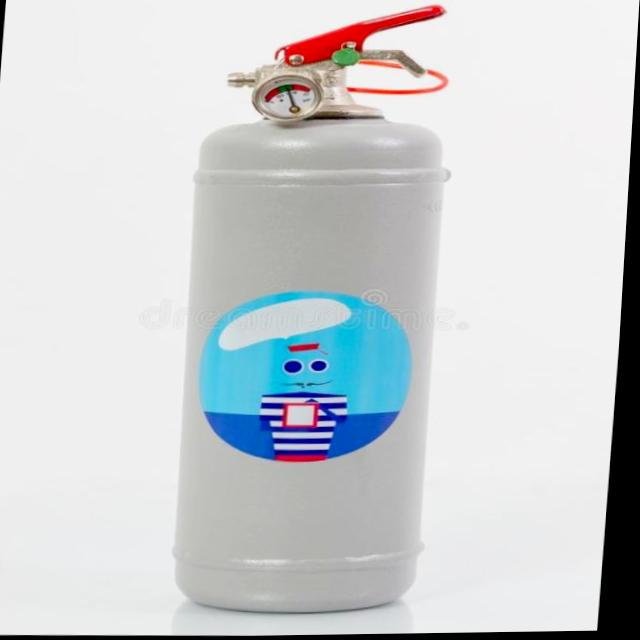FireExtinguisher: (155, 0, 479, 627)
